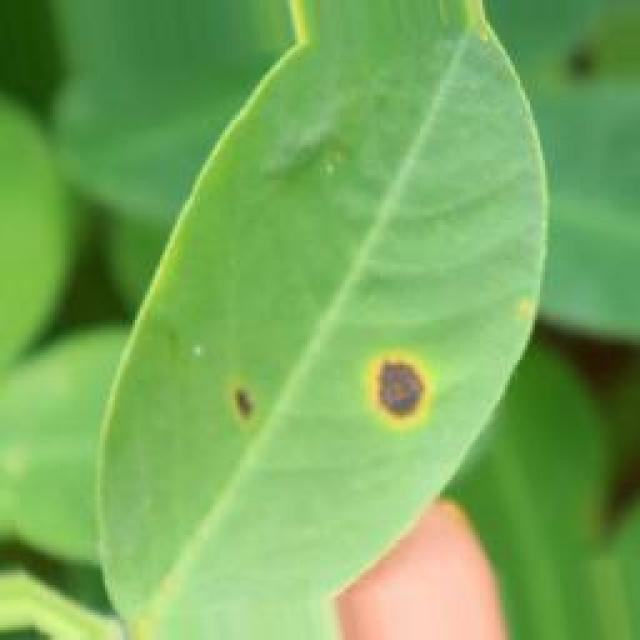Early_leaf_spot: (340, 322, 440, 474), (224, 366, 266, 416)
